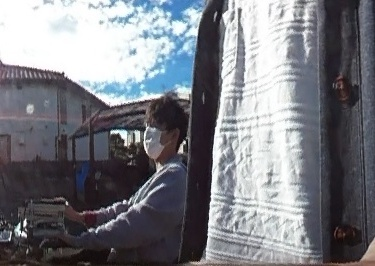person: (41, 91, 194, 266)
